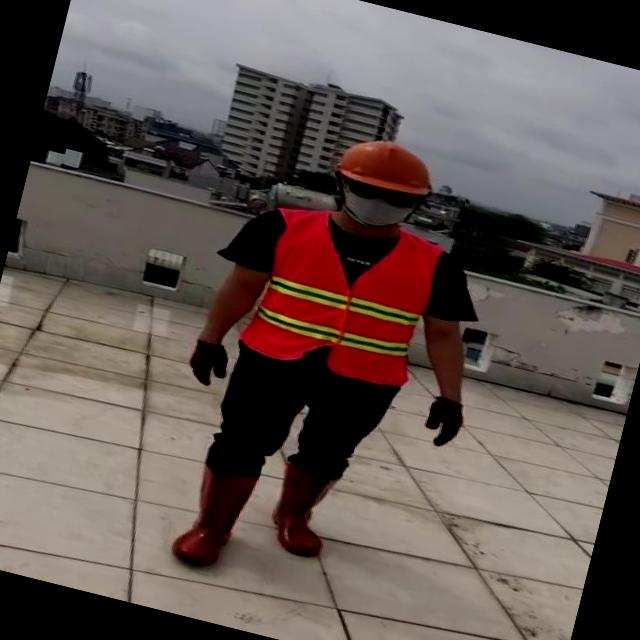boots: (168, 459, 260, 574), (262, 456, 345, 560)
helmet: (326, 128, 444, 202)
vest: (247, 203, 440, 390)
